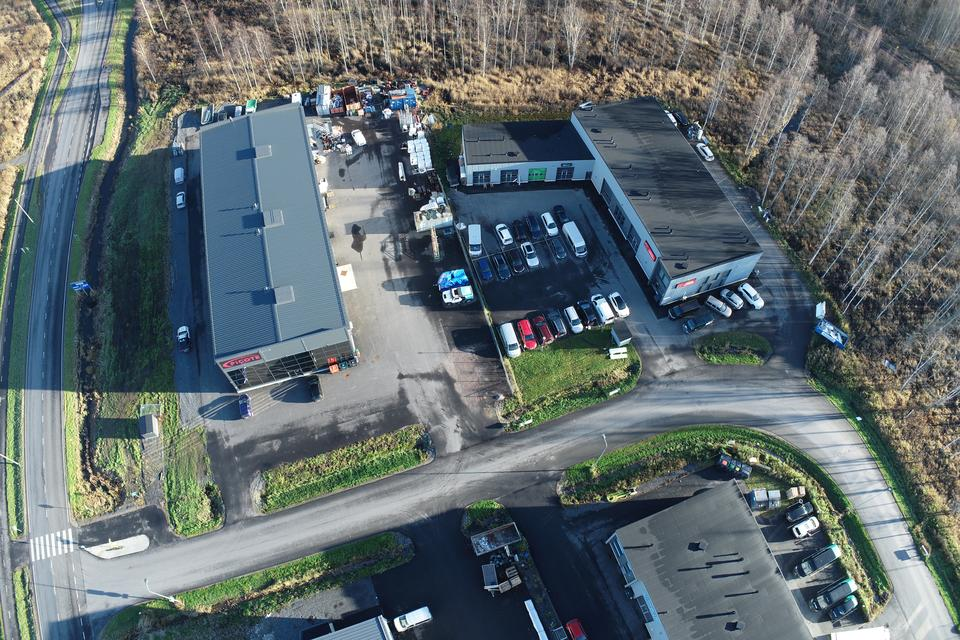intersection: (0, 494, 194, 640)
